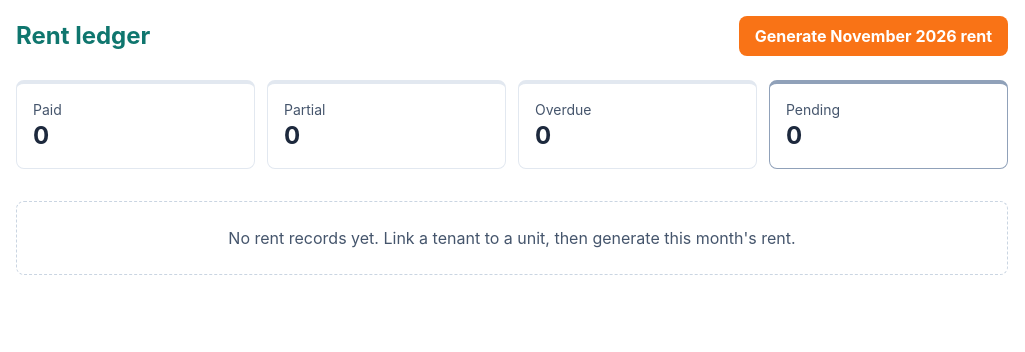
Test: RentLedger page › shows an error when generating fails
Click the button "Generate November 2026 rent" at (873, 36), box left=739, top=16, right=1008, bottom=56
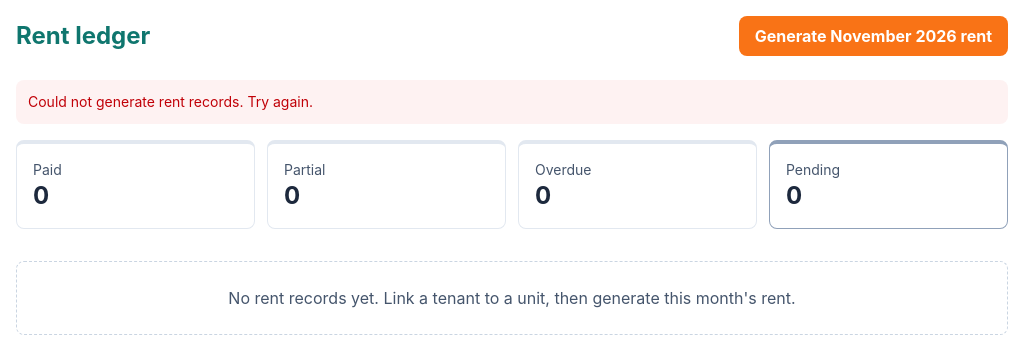
Now the message shows "Could not generate rent records", box left=28, top=93, right=313, bottom=110
